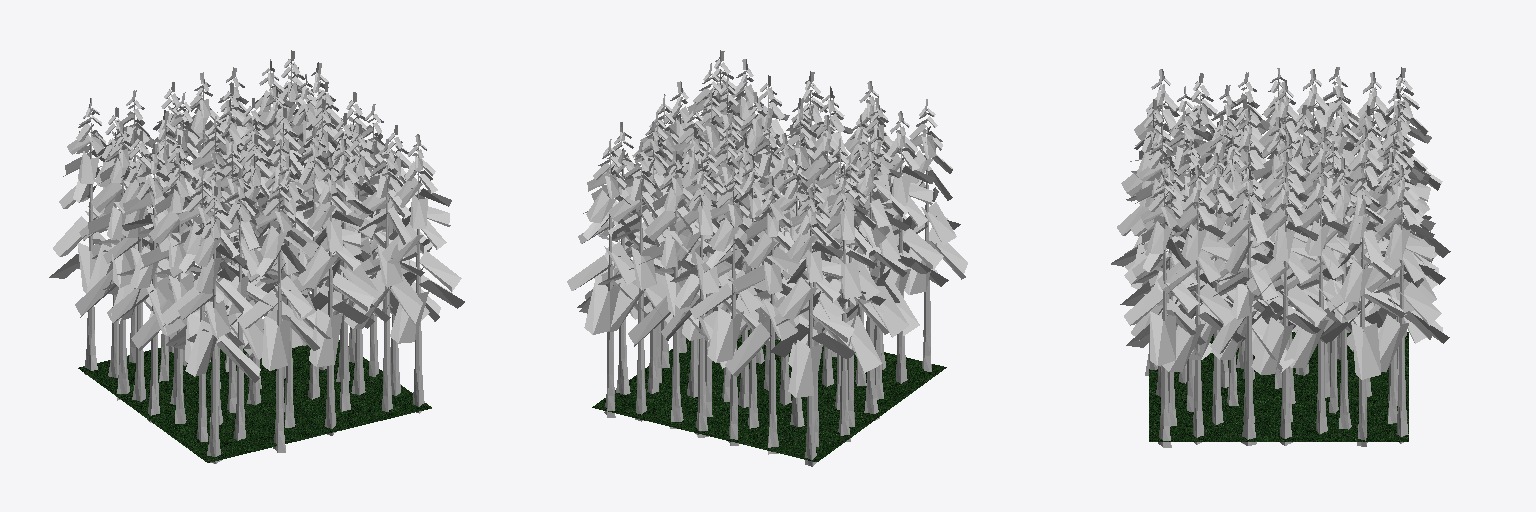
The picture shows the model from 3 angles: view 1: azimuth 30°, elevation 25°; view 2: azimuth 150°, elevation 25°; view 3: azimuth 270°, elevation 25°; orthographic projection.
Parts seen in each view (by area): view 1: Tree_3, Tree_3.002, Plane.001; view 2: Tree_3, Tree_3.002, Plane.001; view 3: Tree_3, Tree_3.002, Plane.001.
Boxes of the visible parts, box(x1,y1,x2,y2) form: Tree_3: box(49, 50, 464, 382); Tree_3.002: box(84, 60, 424, 463); Plane.001: box(78, 340, 431, 462); Tree_3: box(567, 50, 967, 397); Tree_3.002: box(604, 69, 931, 466); Plane.001: box(592, 330, 946, 461); Tree_3: box(1111, 67, 1450, 379); Tree_3.002: box(1145, 79, 1408, 447); Plane.001: box(1149, 332, 1408, 441).
Bounding box in the file's own units: 12.91 × 11.74 × 13.11.
3 materials, 1 textured.